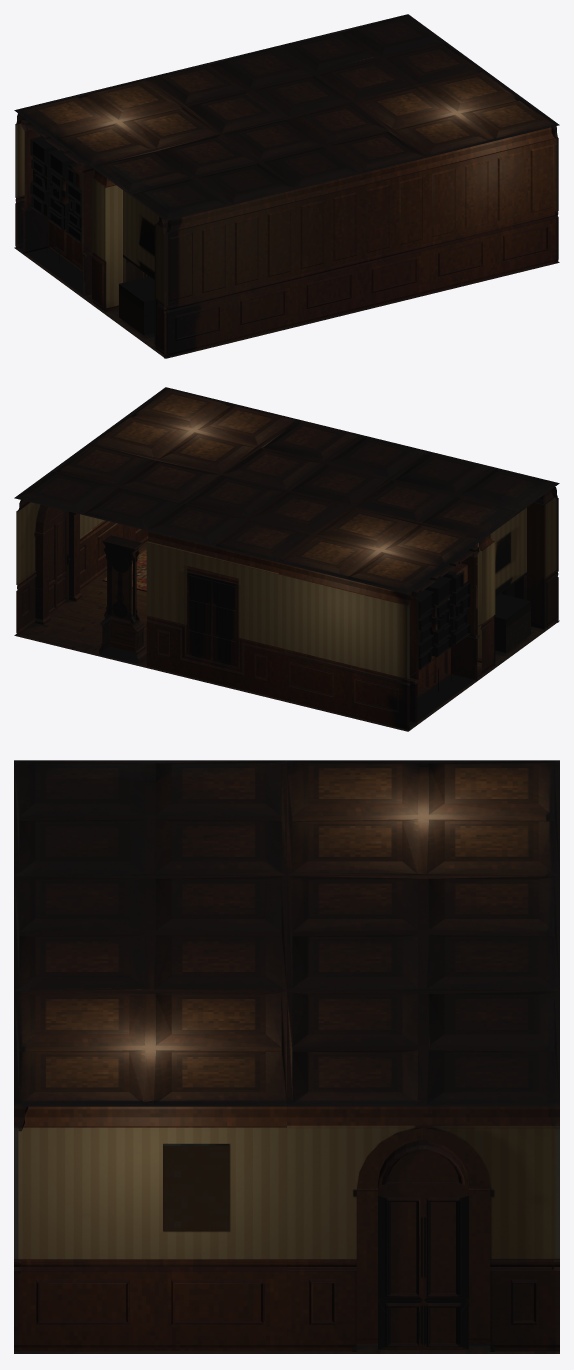
The model's file is Room.fbx.
3 views of the same model, one above another, from view 1: azimuth 30°, elevation 25°; view 2: azimuth 150°, elevation 25°; view 3: azimuth 270°, elevation 25° (orthographic). The views are drawn at different scales.
Visible parts, largest first — view 1: CeilingWooden_01_Baked, Wall_Wood_PaperStripes.003_Baked, Wall_Window_Baked, Picture_4_Baked, Floor.Wood.002_Baked; view 2: CeilingWooden_01_Baked, Wall_Window_Baked, Wall_Wood_PaperStripes.003_Baked, Picture_4_Baked, Floor.Wood.002_Baked; view 3: CeilingWooden_01_Baked, Wall_Window_Baked, Wall_Wood_PaperStripes.003_Baked, Picture_4_Baked, Floor.Wood.002_Baked.
Boxes of the visible parts, x1,y1,x2,y2 form: CeilingWooden_01_Baked: (14, 14, 559, 221); Wall_Wood_PaperStripes.003_Baked: (15, 32, 558, 358); Wall_Window_Baked: (92, 44, 441, 357); Picture_4_Baked: (21, 119, 94, 298); Floor.Wood.002_Baked: (14, 247, 559, 358); CeilingWooden_01_Baked: (14, 387, 559, 594); Wall_Window_Baked: (16, 471, 557, 698); Wall_Wood_PaperStripes.003_Baked: (19, 487, 558, 730); Picture_4_Baked: (99, 535, 479, 725); Floor.Wood.002_Baked: (14, 541, 559, 731); CeilingWooden_01_Baked: (14, 760, 559, 1106); Wall_Window_Baked: (145, 781, 559, 1351); Wall_Wood_PaperStripes.003_Baked: (14, 766, 555, 1351); Picture_4_Baked: (163, 1144, 228, 1230); Floor.Wood.002_Baked: (14, 1345, 559, 1353).
Size of the model in its own units: 902 by 309 by 600.
5 materials, 5 textured.
